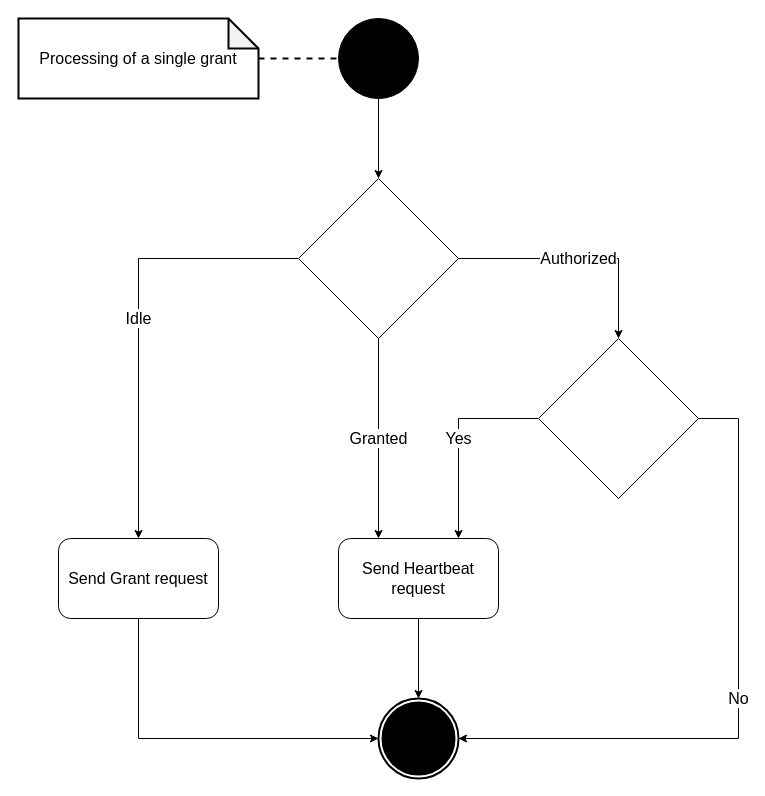
The diagram is 765 pixels wide and 796 high, and some of its shapes have lost their labels. The shapes that lost their labels are listed below. From the top down, each one's box as (x1, y1, x2, y2) in pixels, then its label:
(298, 178, 458, 338): What is the state of the grant?
(538, 338, 698, 498): Was the last heartbeat request send earlier than heartbeat interval seconds ago?
